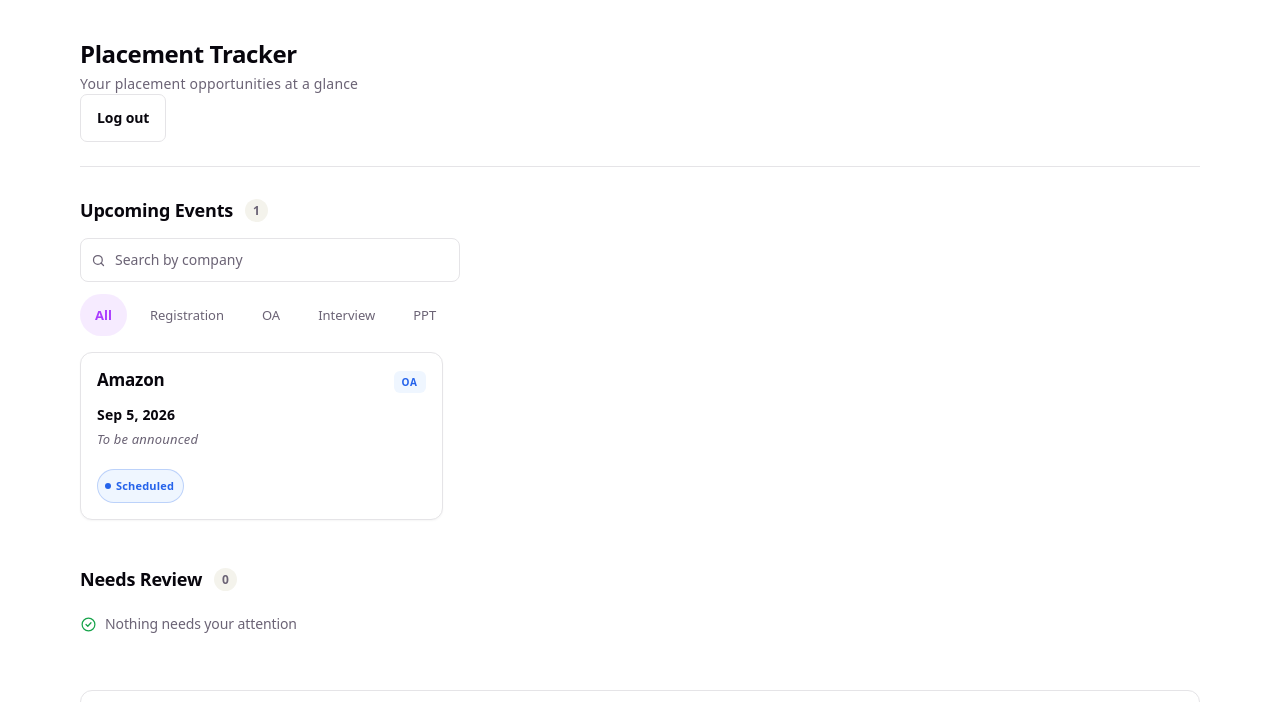
Scenario: logging out returns the user to the signed-out dashboard › shows the signed-out state
The image size is (1280, 702).
Click the button "Log out" at (123, 118), box [80, 94, 166, 142]
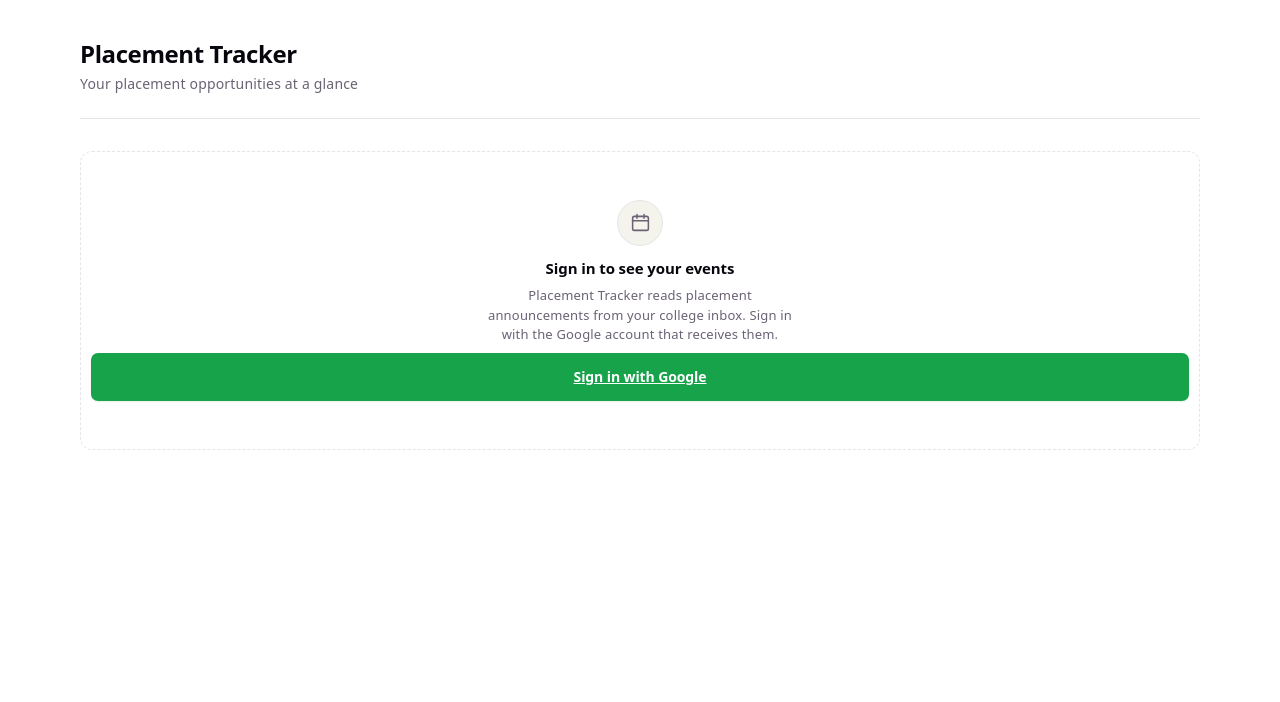
Expected: the link "Sign in with Google" is shown, [91, 352, 1189, 401]
